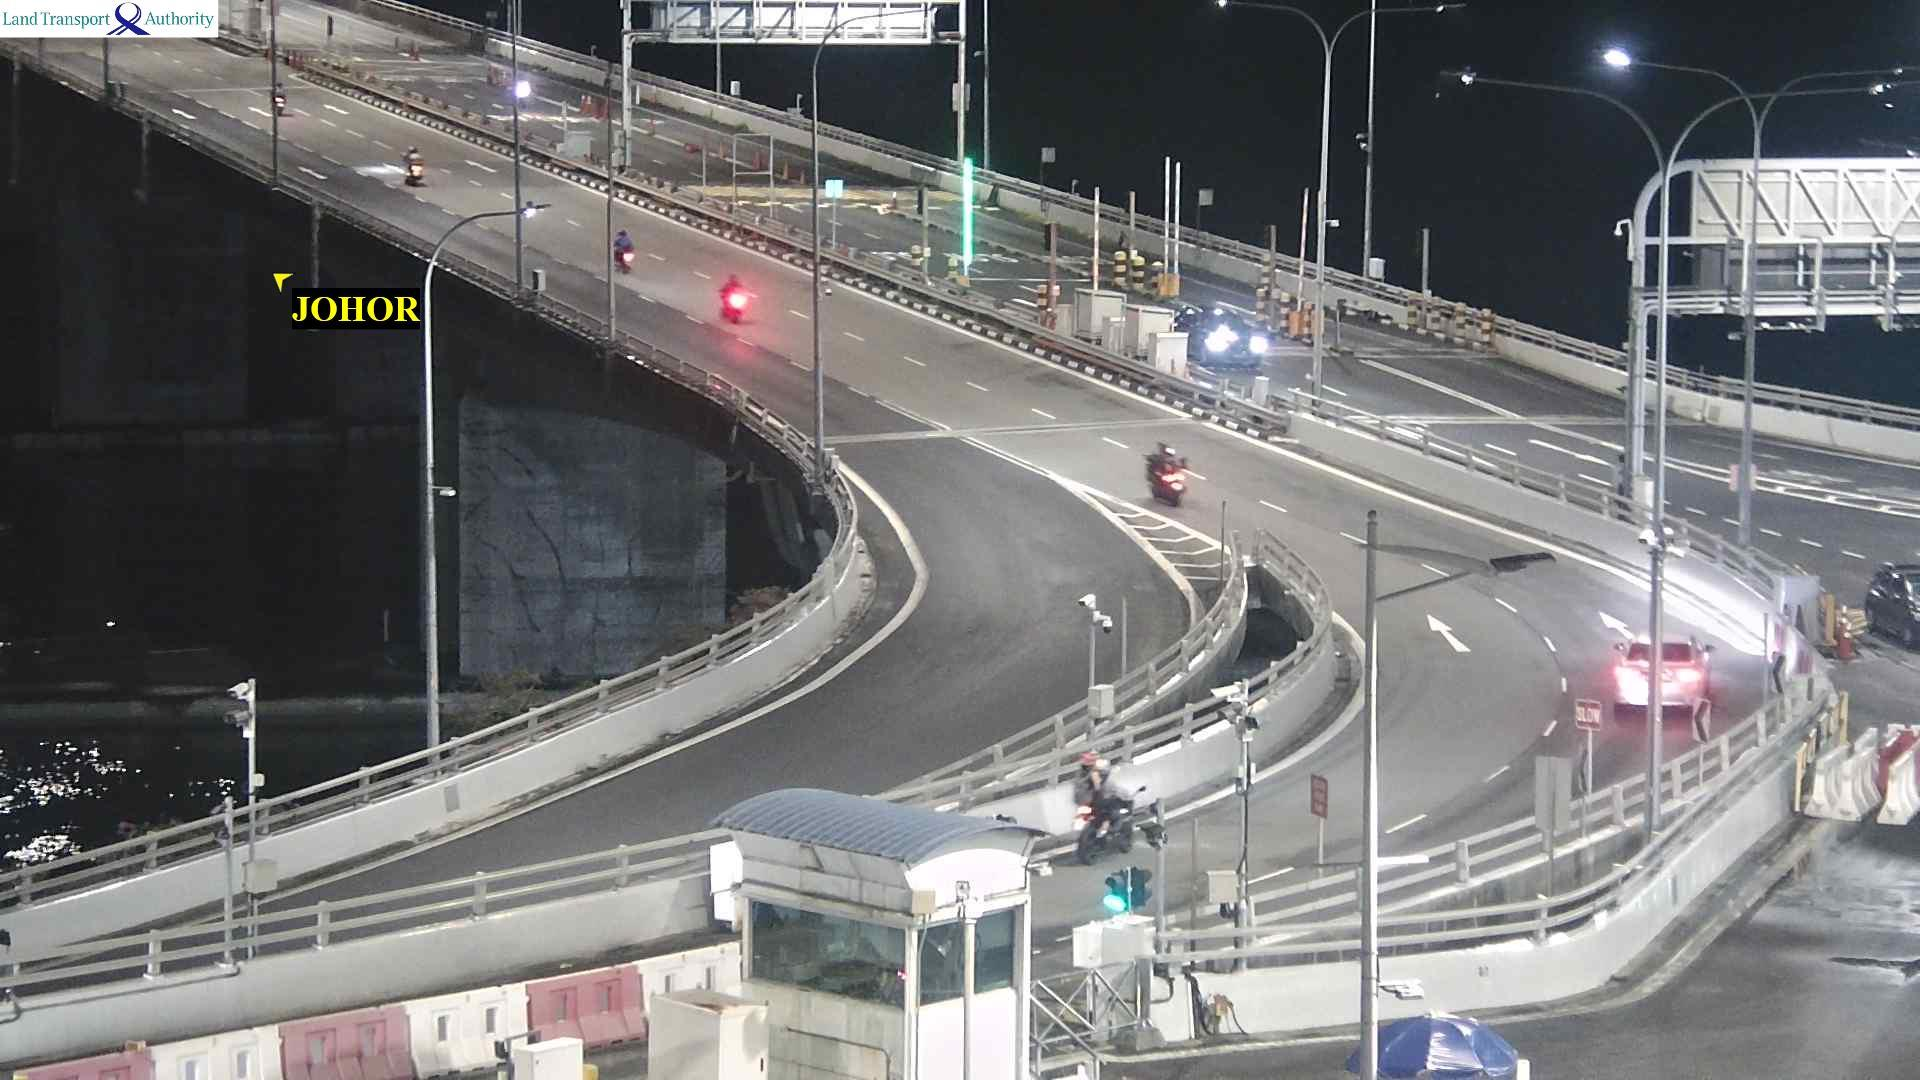vehicle-secondlink-johor: (1614, 632, 1709, 716), (1076, 752, 1138, 865), (1146, 440, 1189, 504), (720, 272, 753, 319), (615, 229, 634, 270), (404, 142, 423, 179), (274, 78, 287, 111)
vehicle-secondlink-singapore: (1172, 301, 1266, 372)
